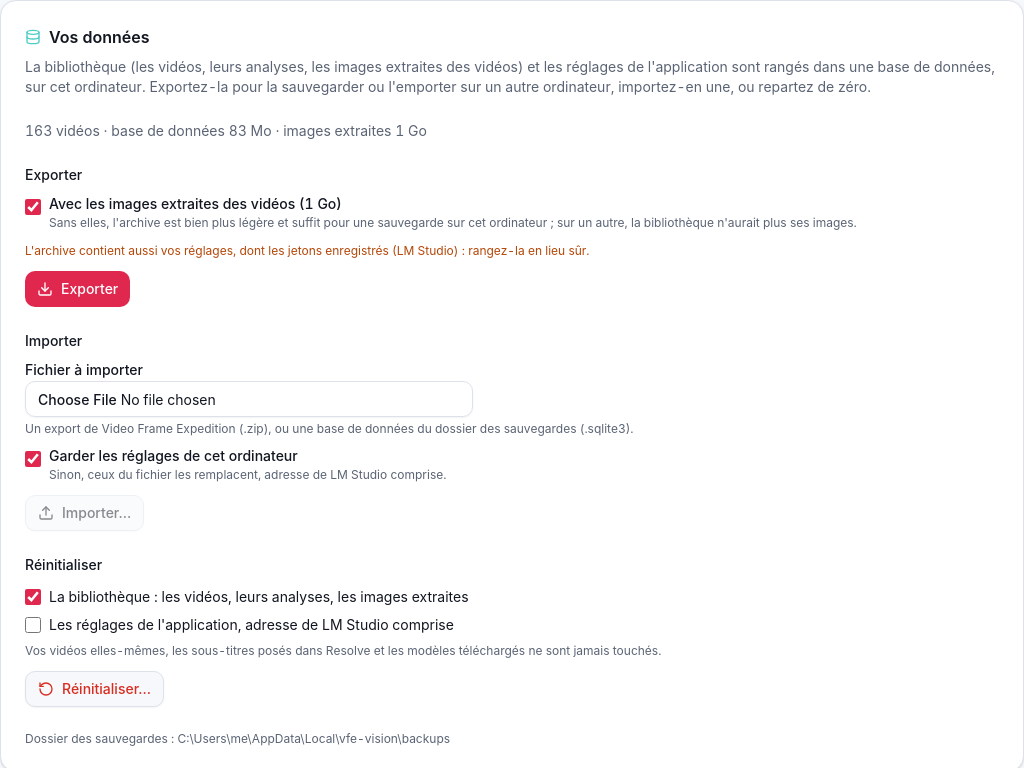
Test: DataCard › resets what is ticked, once confirmed
Check: the checkbox labelled "La bibliothèque" is checked, box [25,589,41,605]
Check: the checkbox labelled "Les réglages de l'application, adresse de LM Studio comprise" is not checked, box [25,617,41,633]
What coordinates should you click on to do the following:
click the button "Réinitialiser…"
I would click on:
 (94, 689)
Its box is [25,671,164,707].
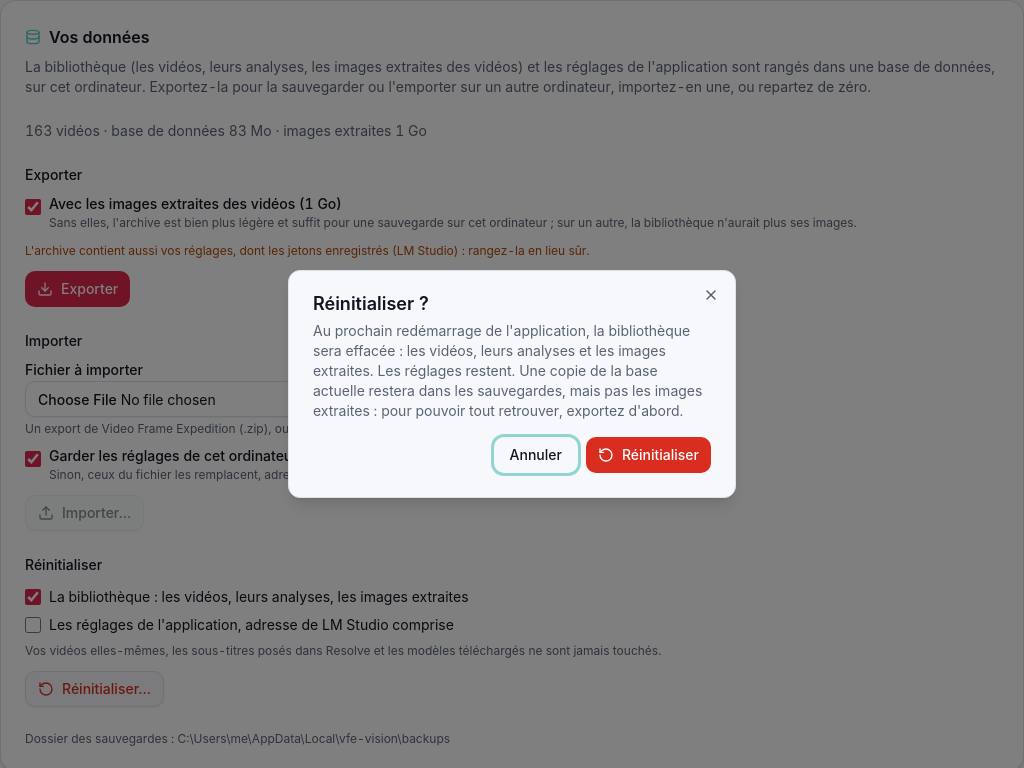
Check: the dialog shows "la bibliothèque sera effacée", box [313,322,690,379]
Check: the dialog shows "exportez d'abord", box [313,362,702,419]
What coordinates should you click on to do the following:
click the button "Réinitialiser"
I would click on:
 (648, 455)
Its box is [586,437,711,473].
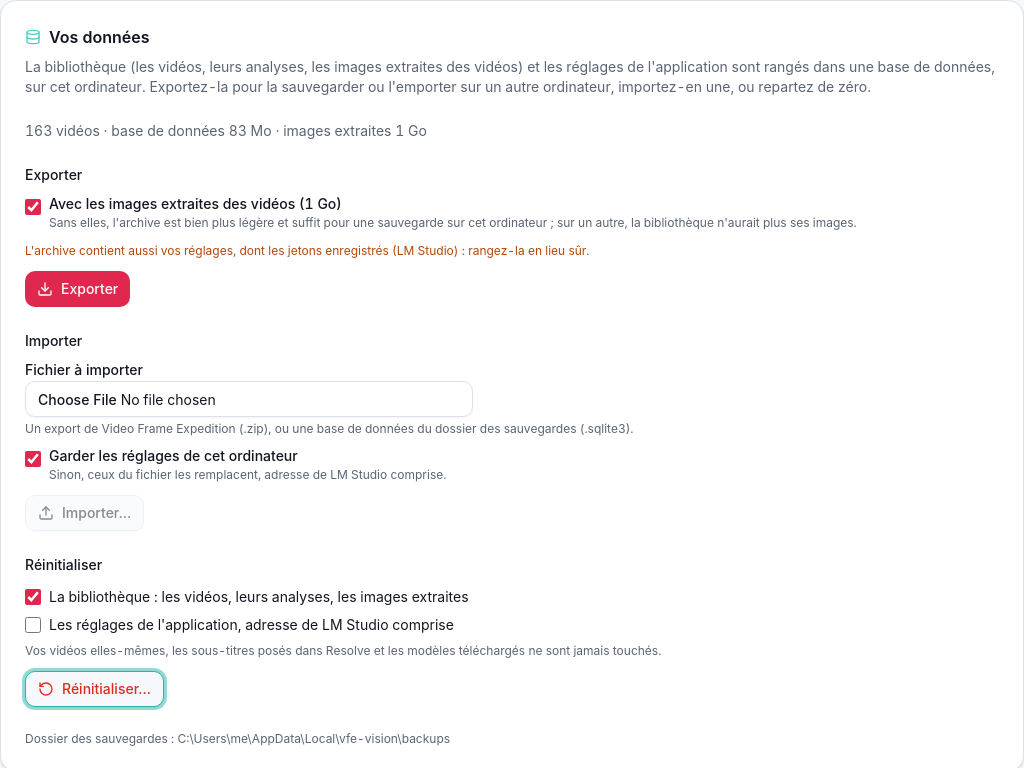
What coordinates should you click on to do the following:
click the checkbox labelled "La bibliothèque"
I would click on:
 (33, 597)
Its box is [25,589,41,605].
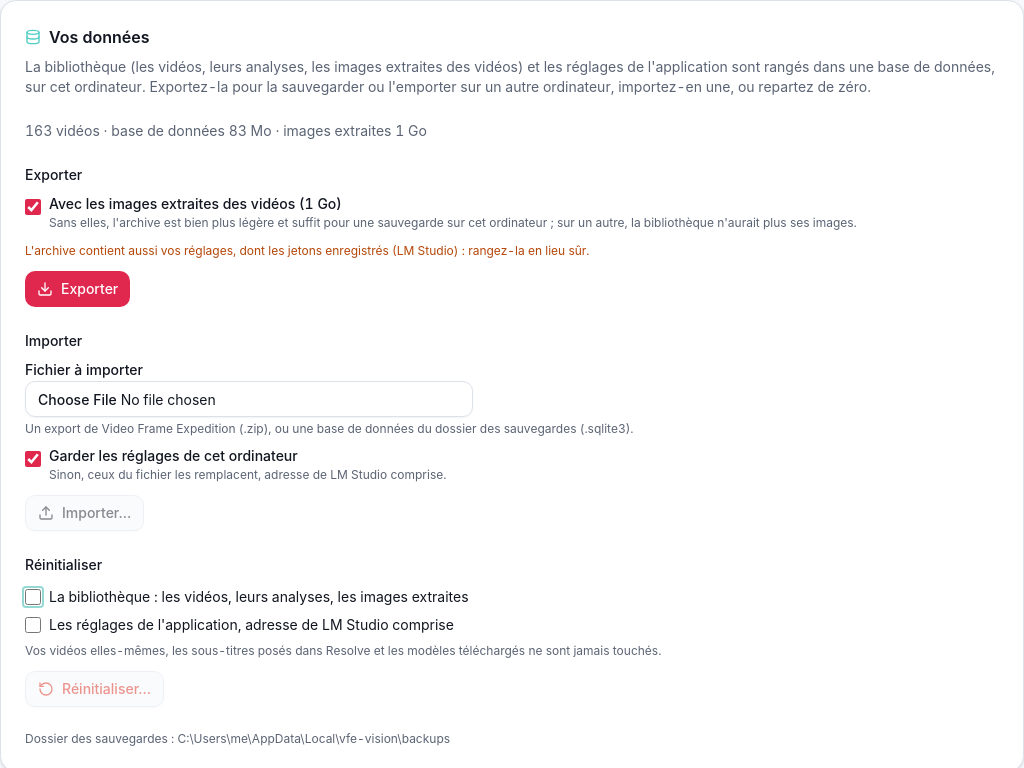
Check: the button "Réinitialiser…" is disabled, box [25,671,164,707]
What coordinates should you click on to do the following:
click the checkbox labelled "Les réglages de l'application, adresse de LM Studio comprise"
I would click on:
 (33, 625)
Its box is [25,617,41,633].
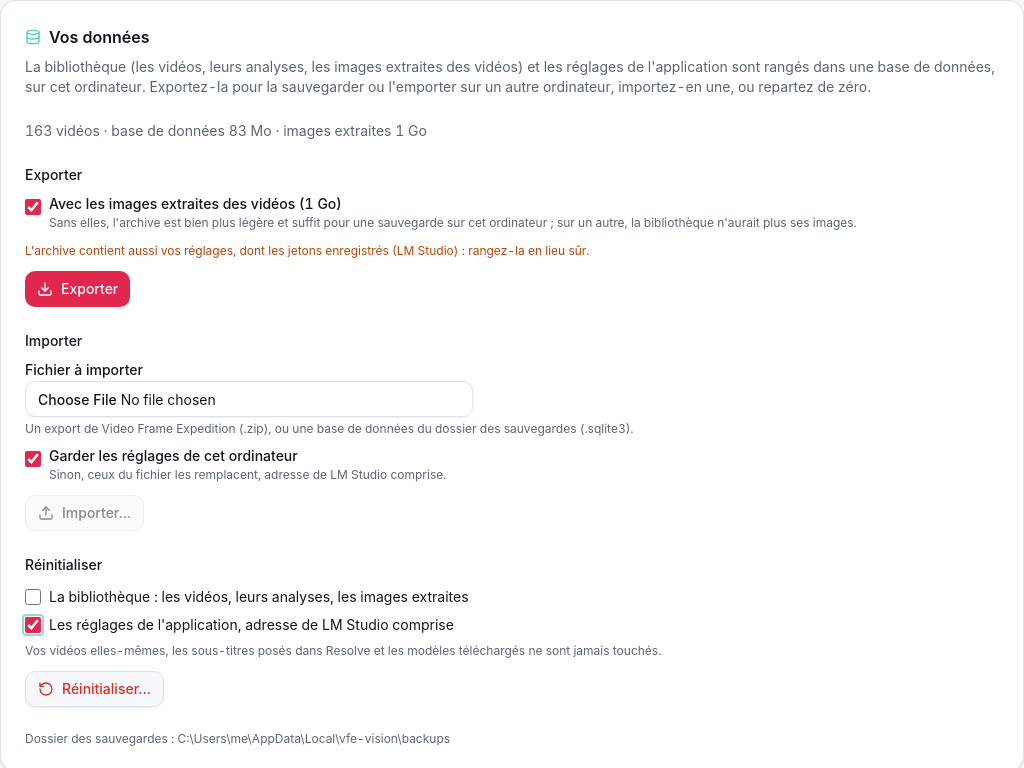
What coordinates should you click on to do the following:
click the button "Réinitialiser…"
I would click on:
 (94, 689)
Its box is [25,671,164,707].
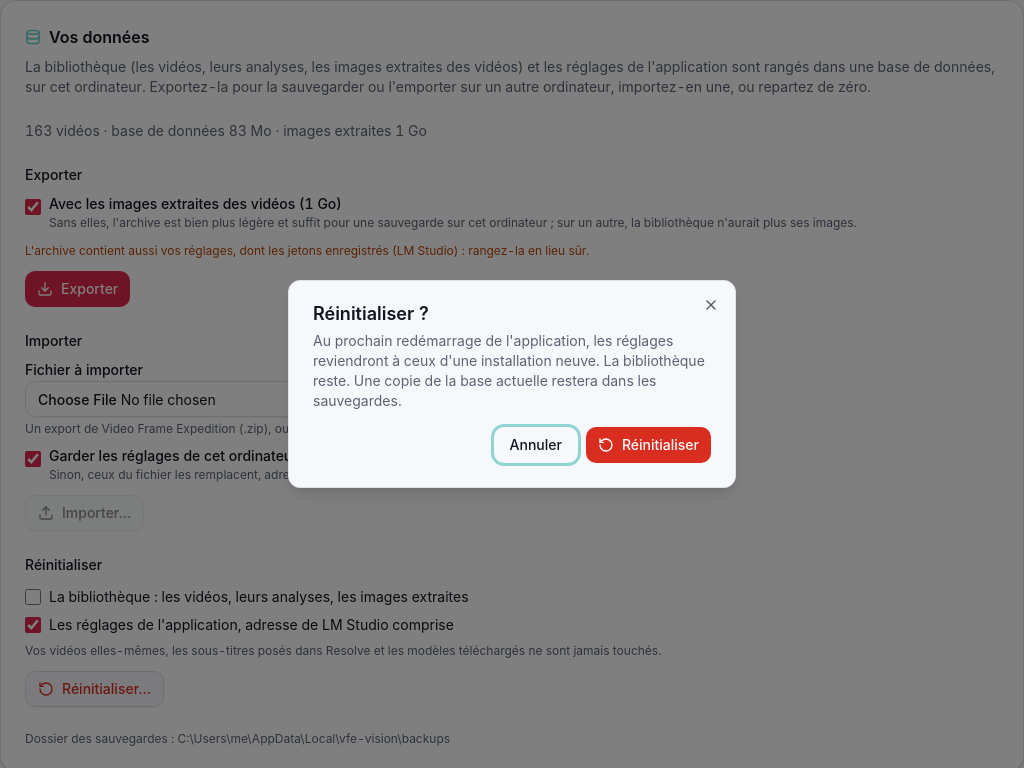
Check: the dialog shows "installation neuve", box [313,332,705,389]
